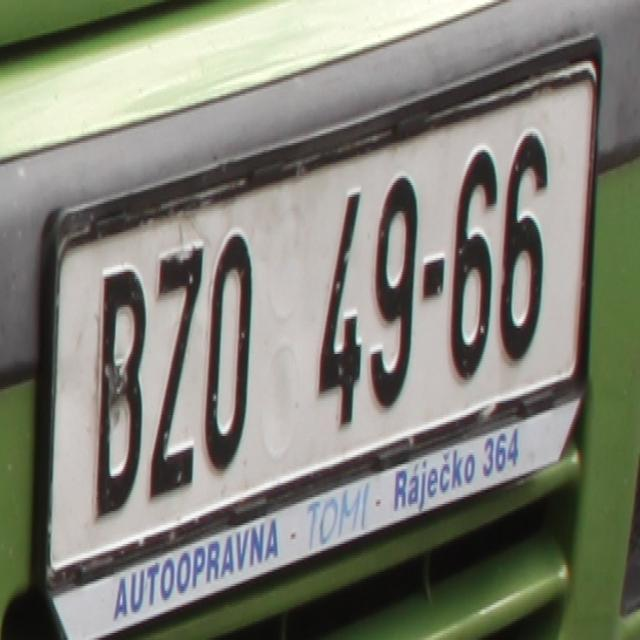0: (202, 234, 251, 469)
4: (315, 185, 364, 429)
6: (500, 117, 550, 366), (448, 140, 496, 384)
9: (372, 169, 416, 417)
B: (90, 261, 149, 514)
Z: (149, 239, 199, 502)
